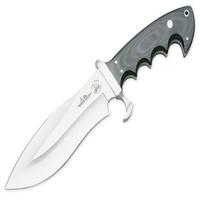knife: (3, 2, 191, 196)
